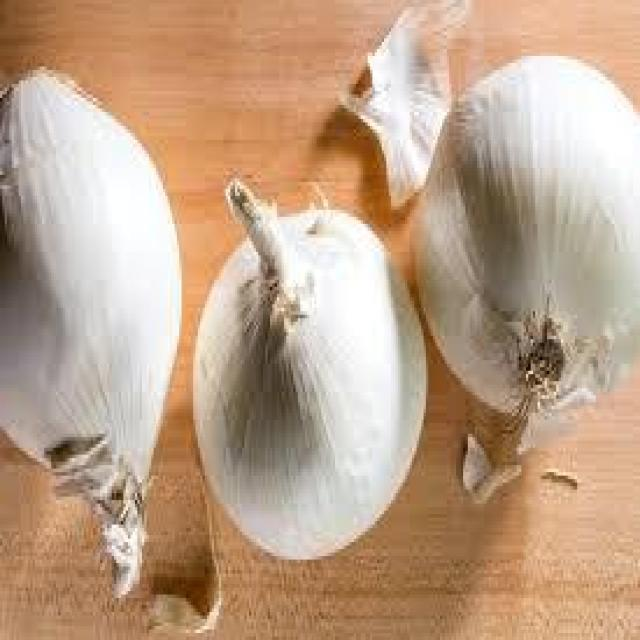Onion: (0, 54, 186, 607), (192, 166, 427, 579), (412, 49, 640, 448), (337, 3, 482, 203)
